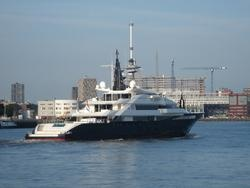yacht: (27, 48, 201, 142)
